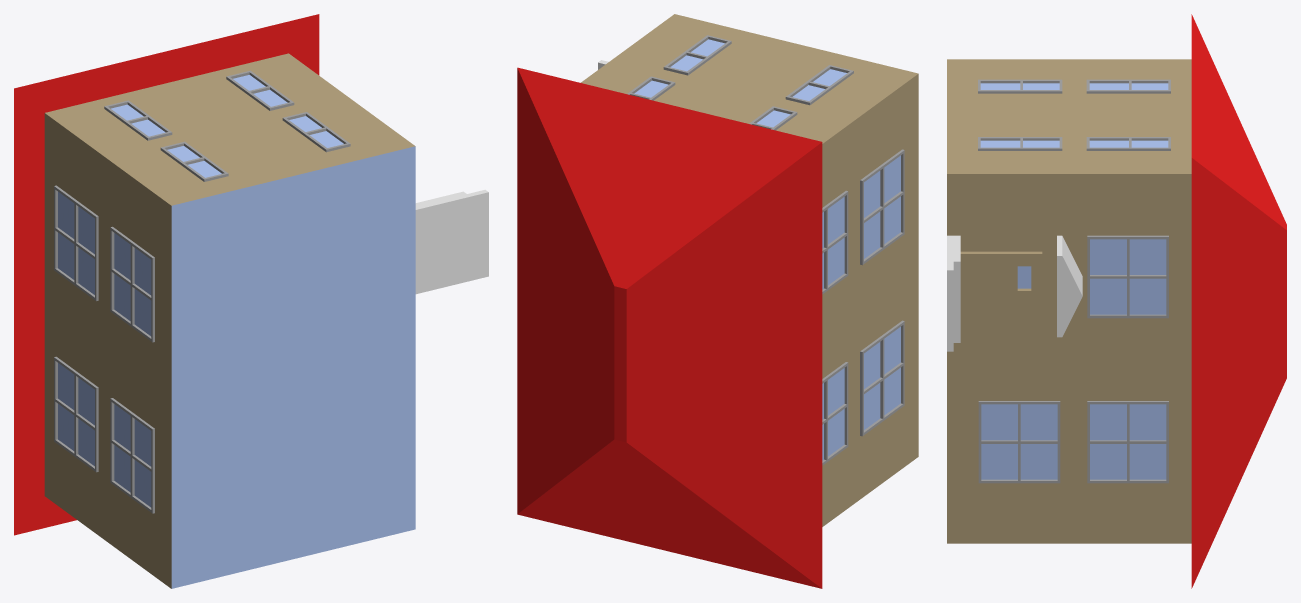
Rendered from villa1.fbx.
3 renders of one model, left to right at view 1: azimuth 30°, elevation 25°; view 2: azimuth 150°, elevation 25°; view 3: azimuth 270°, elevation 25°, orthographic. The views are drawn at different scales.
Visible parts, largest first — view 1: villa1; view 2: villa1; view 3: villa1.
Boxes of the visible parts, <box> form: villa1: <box>14,14,488,588</box>; villa1: <box>517,14,918,588</box>; villa1: <box>947,14,1286,588</box>.
Size of the model in its own units: 11.22 by 13.78 by 9.84.
